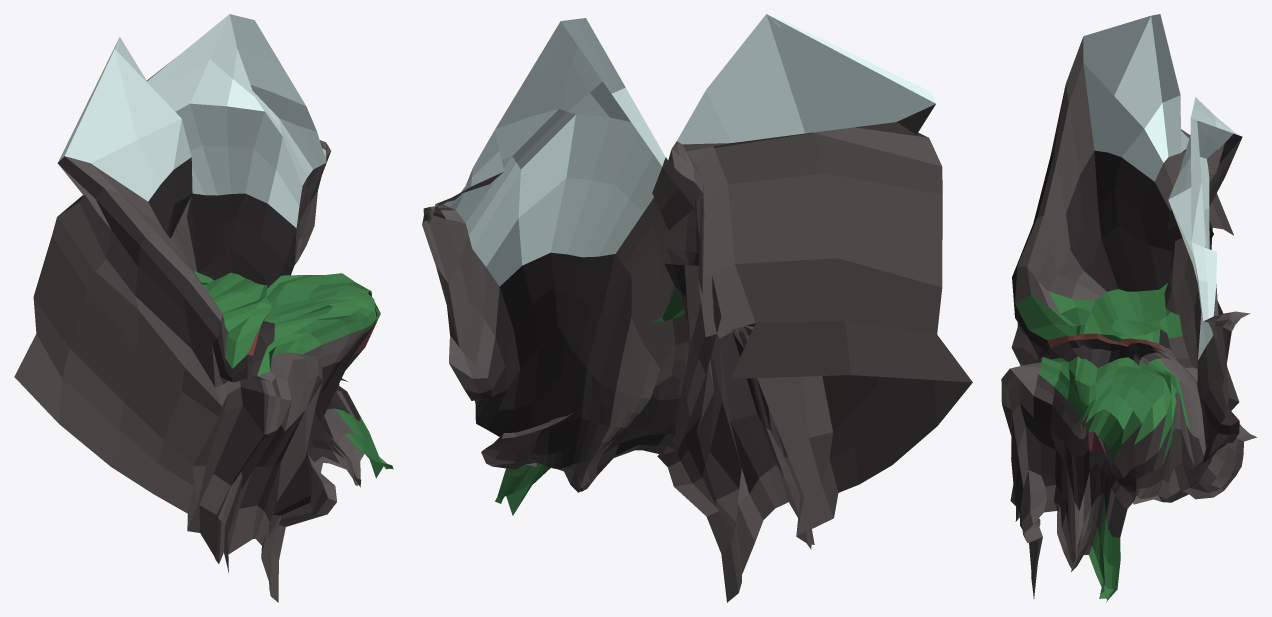
File: Ground_Mountain.fbx
The picture shows the model from 3 angles, left to right: view 1: azimuth 30°, elevation 25°; view 2: azimuth 150°, elevation 25°; view 3: azimuth 270°, elevation 25°; orthographic projection. The views are drawn at different scales.
Visible parts, largest first — view 1: Mountain_Ground; view 2: Mountain_Ground; view 3: Mountain_Ground.
Boxes of the visible parts, x1,y1,x2,y2 form: Mountain_Ground: (14,14,393,602); Mountain_Ground: (422,14,972,602); Mountain_Ground: (1001,14,1256,601).
Size of the model in its own units: 1419 by 829 by 1930.
